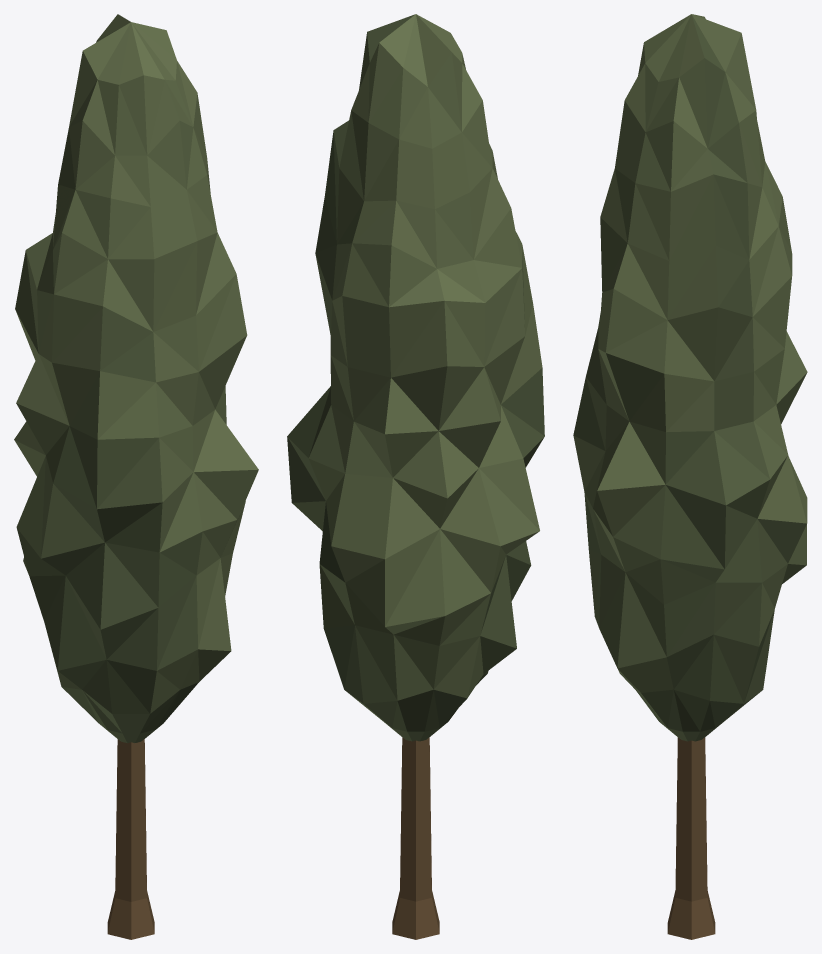
Rendered from splintered-roadside-poplar-5859d8.glb.
The picture shows the model from 3 angles, left to right: view 1: azimuth 30°, elevation 25°; view 2: azimuth 150°, elevation 25°; view 3: azimuth 270°, elevation 25°; orthographic projection.
Visible parts, largest first — view 1: poplar-plume, splintered-roadside-poplar; view 2: poplar-plume, splintered-roadside-poplar; view 3: poplar-plume, splintered-roadside-poplar.
Boxes of the visible parts, <box> form: poplar-plume: <box>14,14,258,743</box>; splintered-roadside-poplar: <box>107,739,154,939</box>; poplar-plume: <box>287,14,544,741</box>; splintered-roadside-poplar: <box>392,737,439,939</box>; poplar-plume: <box>573,14,807,741</box>; splintered-roadside-poplar: <box>667,737,715,939</box>.
Bounding box in the file's own units: 2.26 × 9 × 2.09.
